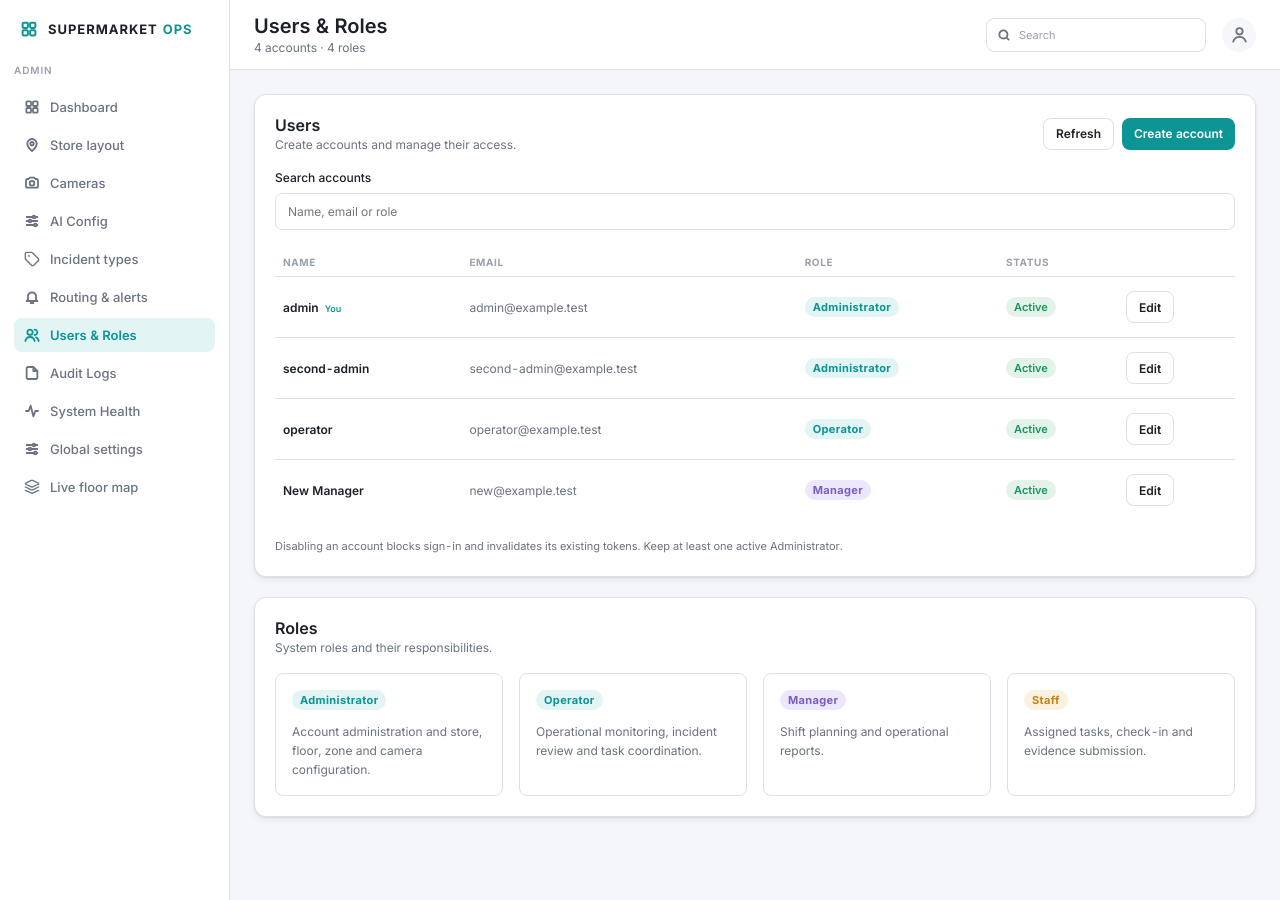
Test case: Users & Roles account integration › disables and re-enables an account
The width and height of the screenshot is (1280, 900).
Click the button with aria-label "Edit new@example.test".
click(1150, 490)  # box [1126,474,1174,506]
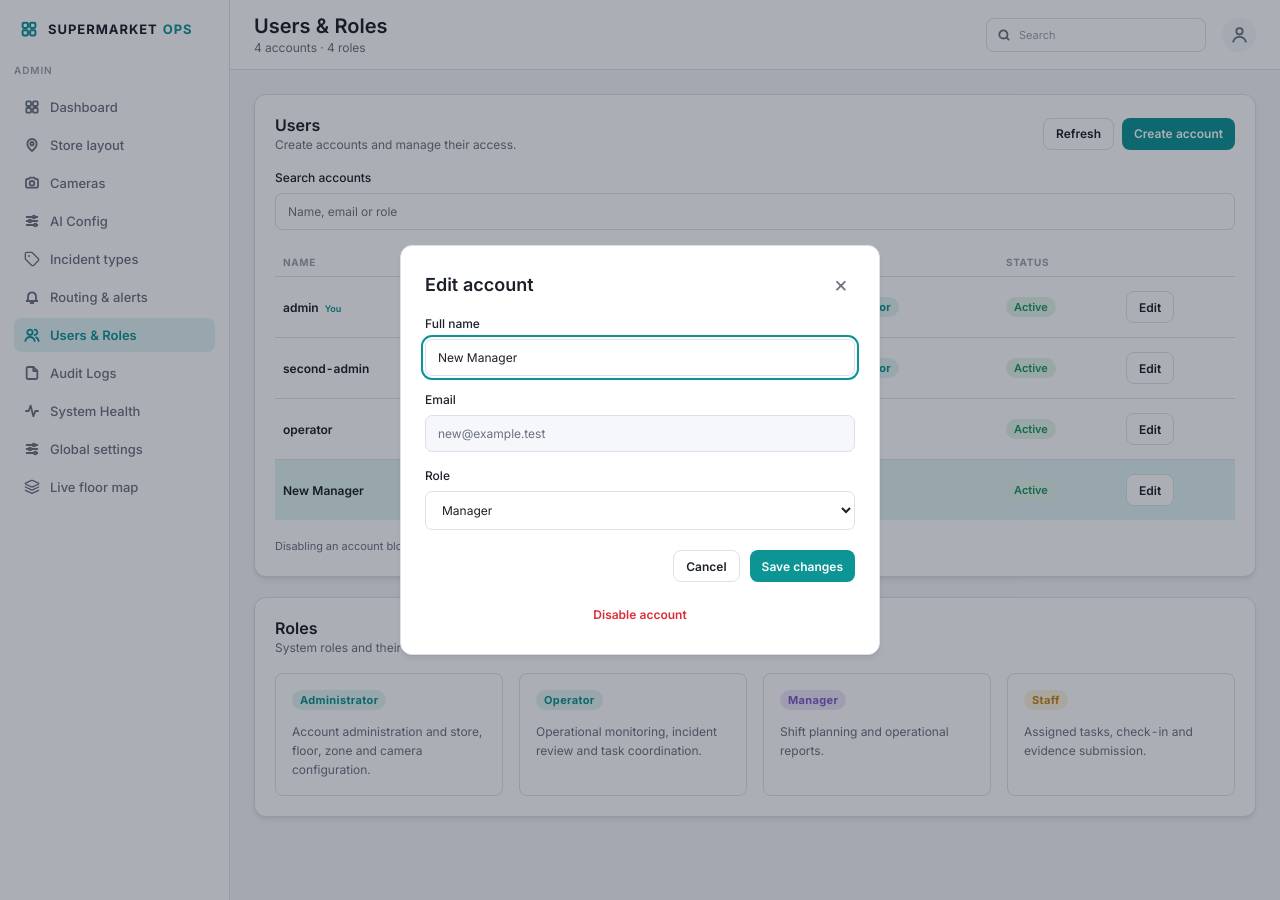
Click the button "Disable account".
click(640, 614)  # box [425,598,855,630]
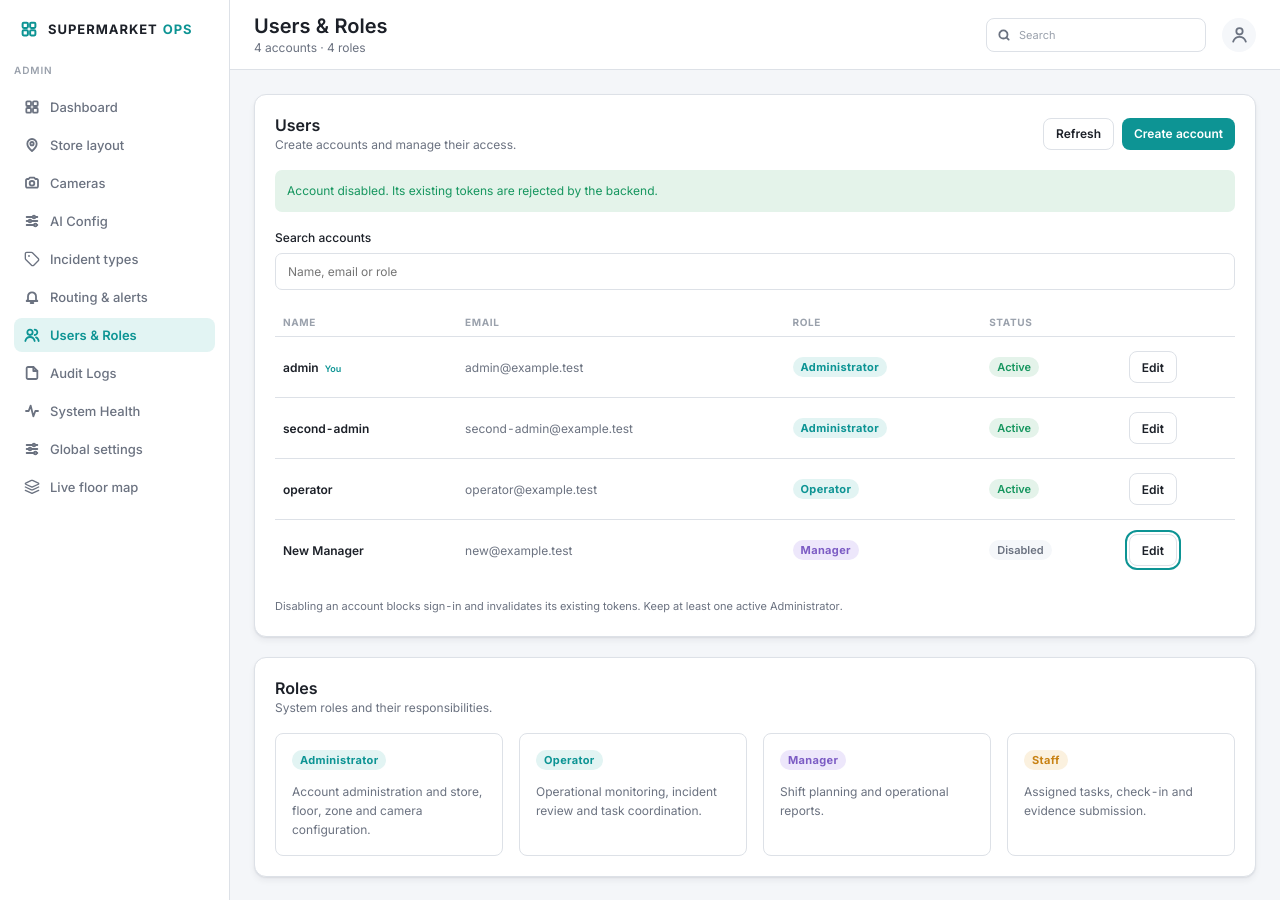
expect the text "Account disabled. Its existing tokens are rejected by the backend." is shown: met, box [275,170,1235,212]
Click the button with aria-label "Edit new@example.test".
click(1153, 550)  # box [1129,534,1177,566]
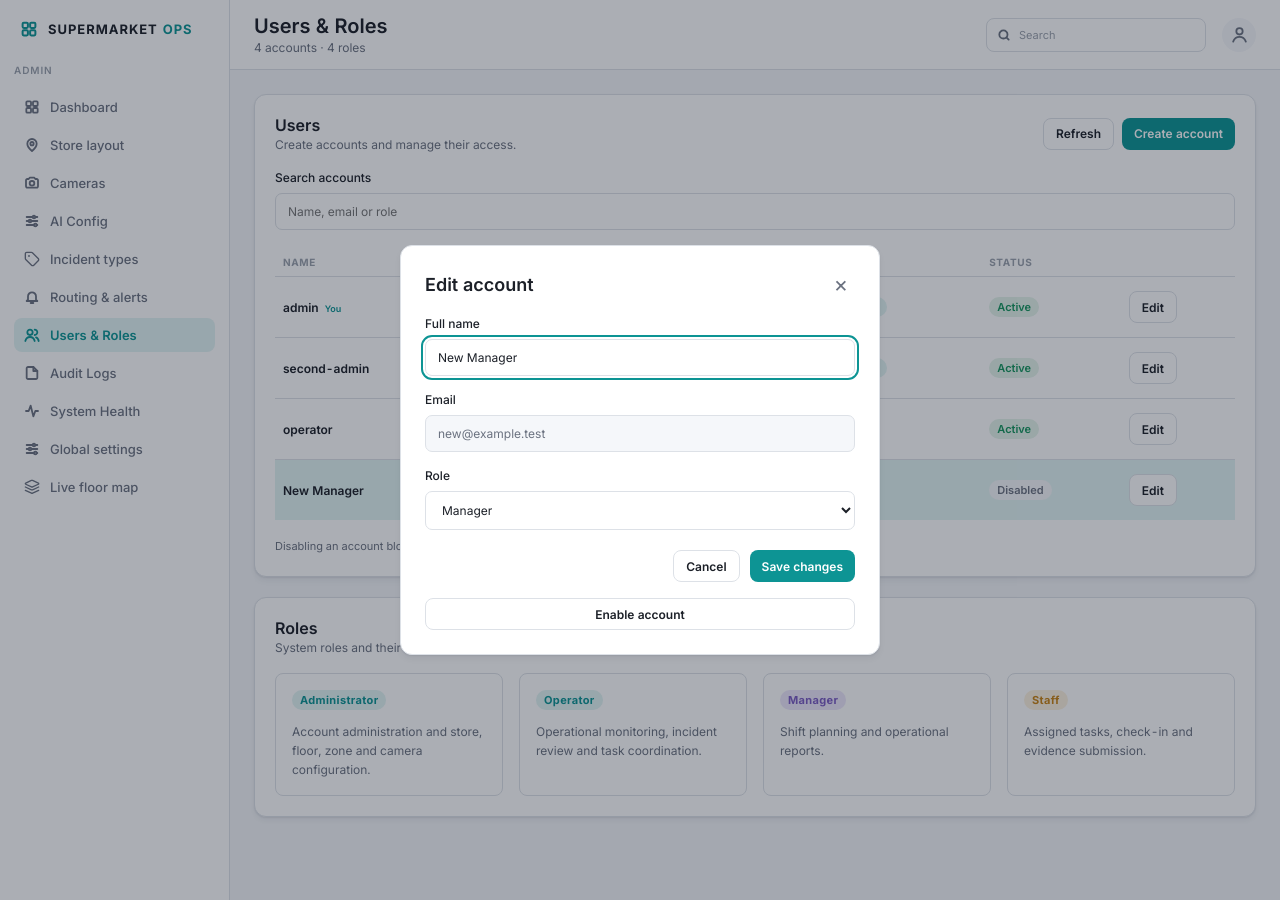
expect the button "Enable account" is shown: met
Click the button "Enable account".
click(640, 614)  # box [425,598,855,630]
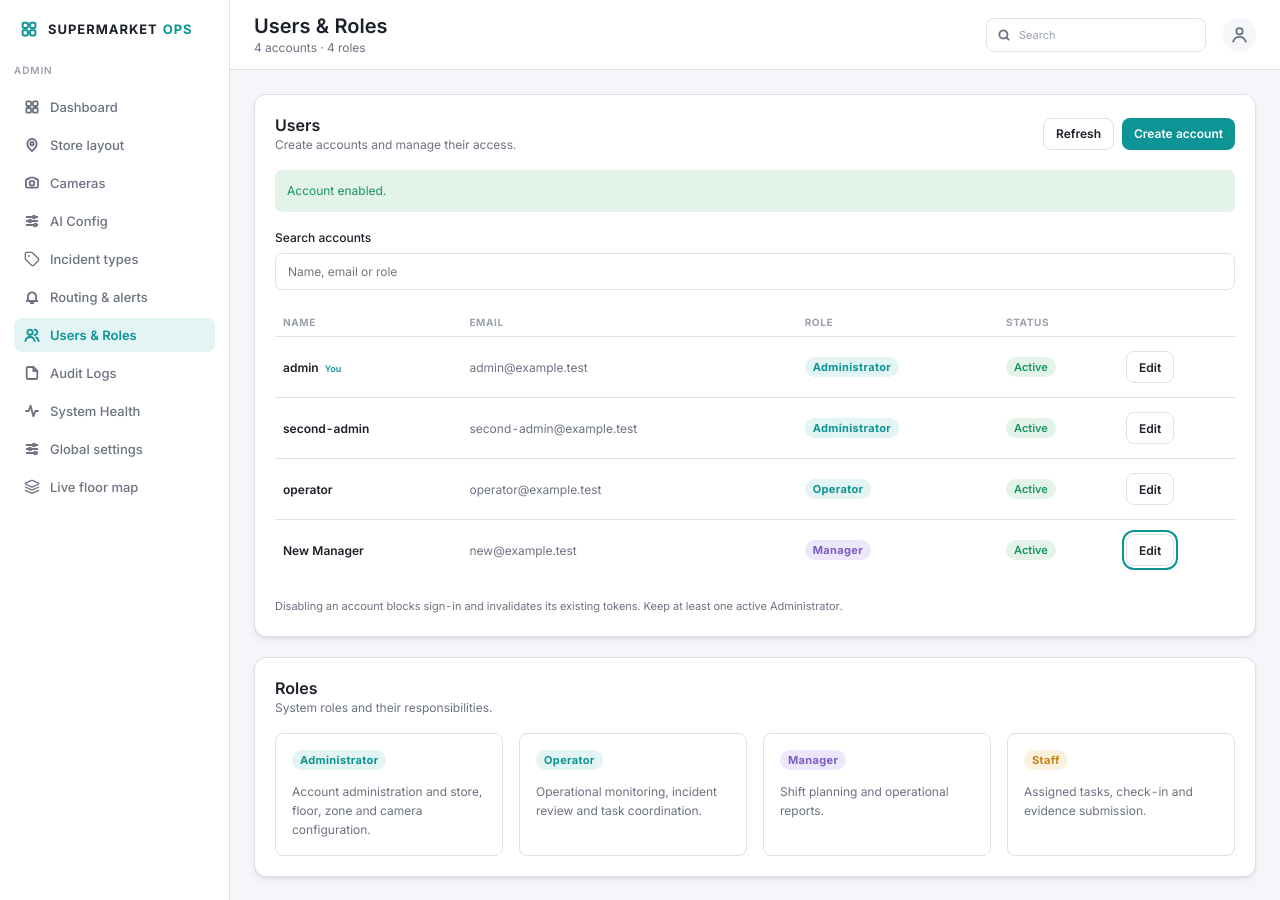
expect the text "Account enabled." is shown: met, box [275,170,1235,212]
